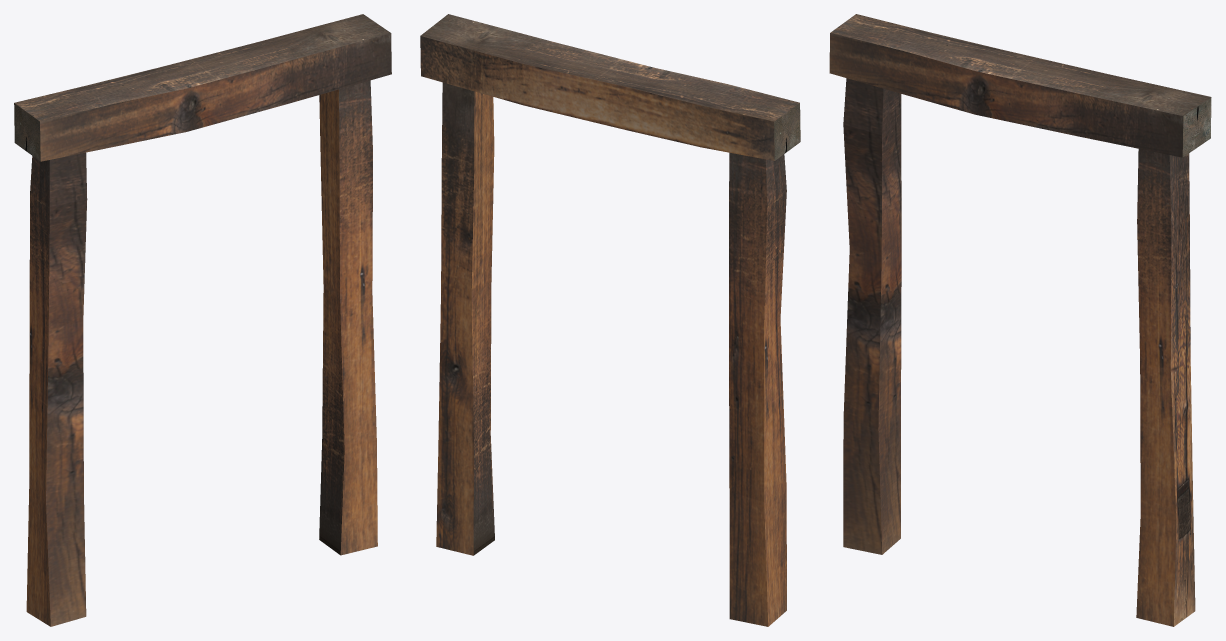
Rendered from door_frame.glb.
3 views of the same model, side by side, from view 1: azimuth 30°, elevation 25°; view 2: azimuth 150°, elevation 25°; view 3: azimuth 330°, elevation 25° (orthographic).
Visible parts, largest first — view 1: FrameDoor_2; view 2: FrameDoor_2; view 3: FrameDoor_2.
Boxes of the visible parts, x1,y1,x2,y2 form: FrameDoor_2: [14, 14, 391, 626]; FrameDoor_2: [420, 14, 800, 626]; FrameDoor_2: [829, 14, 1211, 626].
Size of the model in its own units: 2.8 by 3.9 by 0.4087.
Materials: 2 (2 with a texture image).
